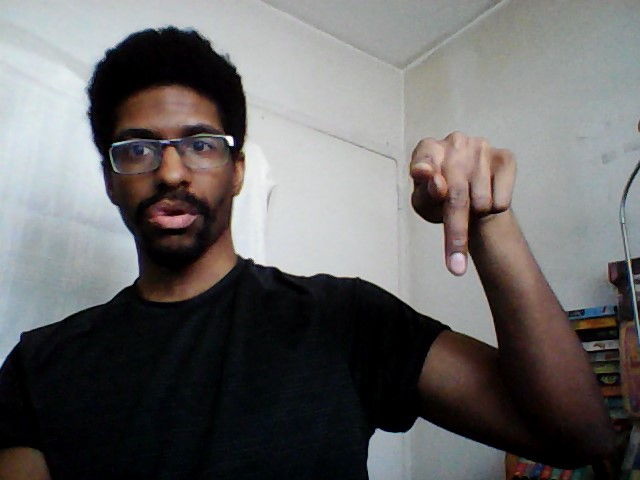p: (404, 125, 522, 282)
